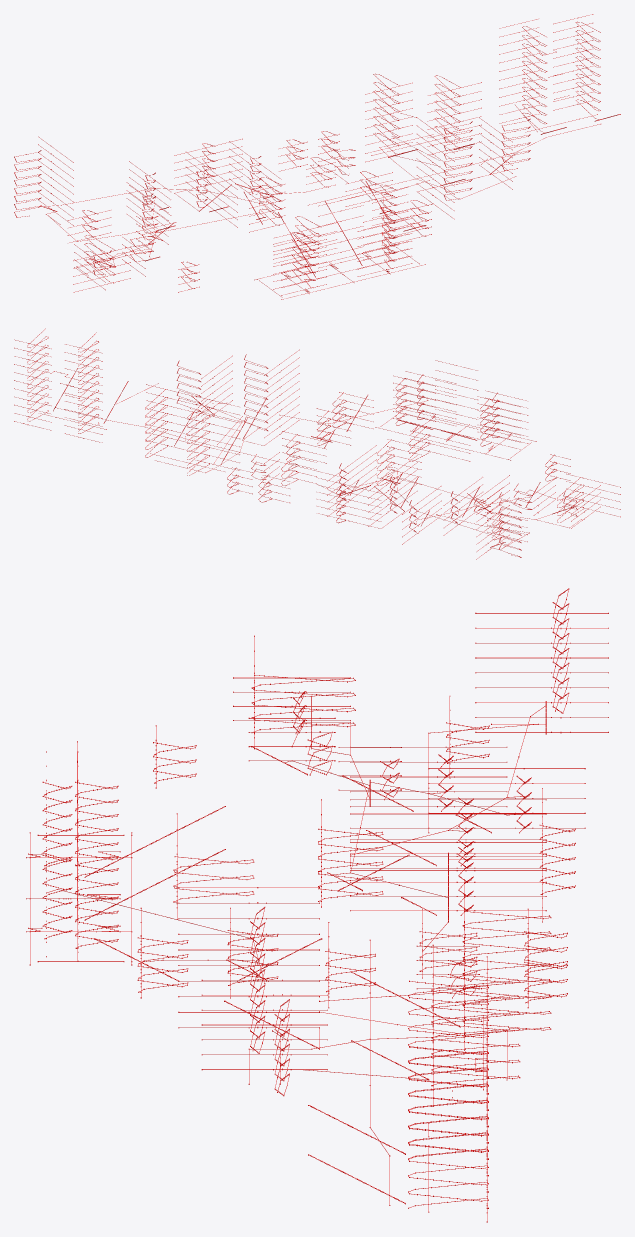
The model's file is navigation_graph.obj.
3 renders of one model, top to bottom at view 1: azimuth 30°, elevation 25°; view 2: azimuth 150°, elevation 25°; view 3: azimuth 270°, elevation 25°, orthographic. The views are drawn at different scales.
Size of the model in its own units: 324 by 53.32 by 149.
